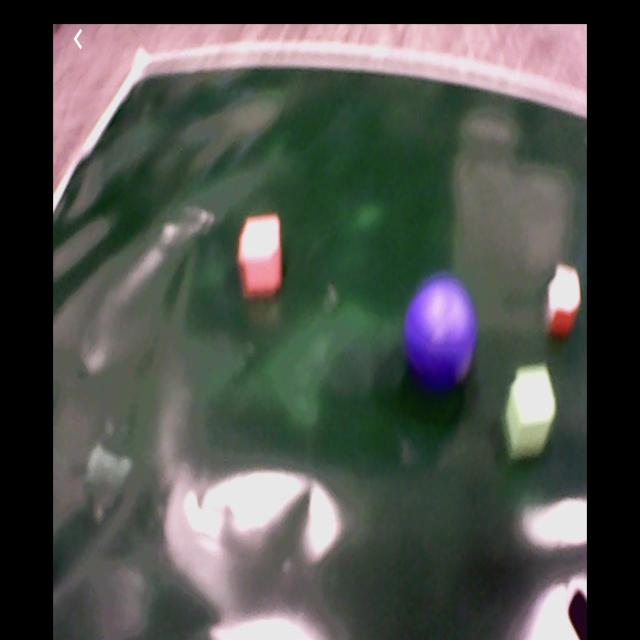ball: (403, 281, 477, 388)
